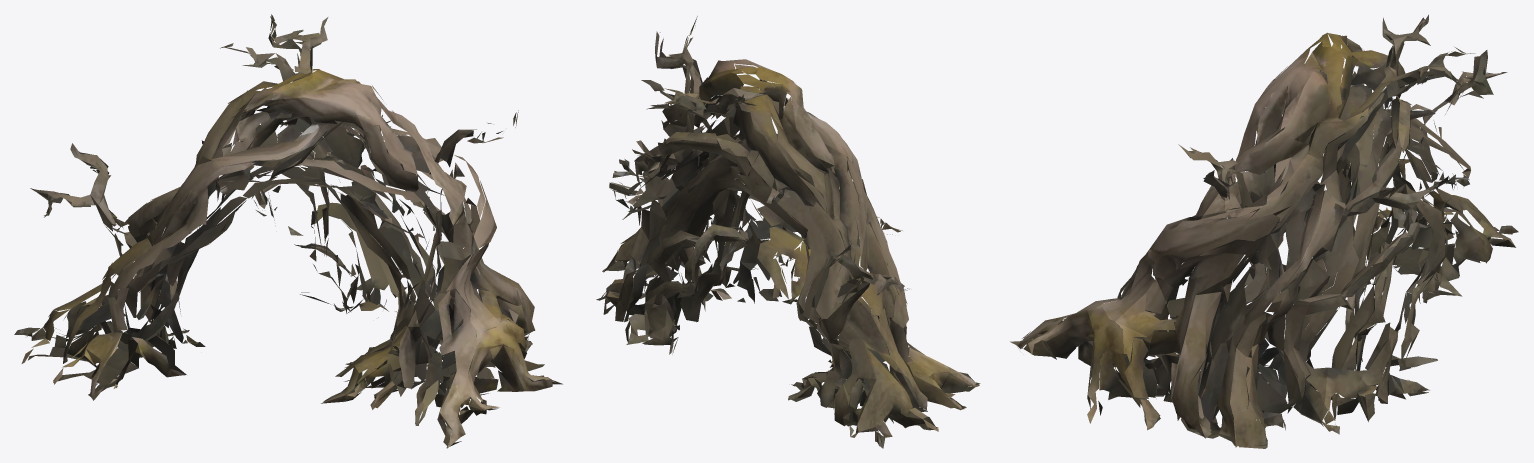
The model's file is rootArch.glb.
The picture shows the model from 3 angles, left to right: view 1: azimuth 30°, elevation 25°; view 2: azimuth 150°, elevation 25°; view 3: azimuth 270°, elevation 25°; orthographic projection. The views are drawn at different scales.
Parts seen in each view (by area): view 1: Prop_rootArch; view 2: Prop_rootArch; view 3: Prop_rootArch.
Boxes of the visible parts, left/top/right/bottom form: Prop_rootArch: left=14, top=14, right=562, bottom=448; Prop_rootArch: left=596, top=16, right=980, bottom=448; Prop_rootArch: left=1010, top=14, right=1518, bottom=448.
Size of the model in its own units: 9.27 by 6.04 by 8.71.
1 material, 1 textured.
